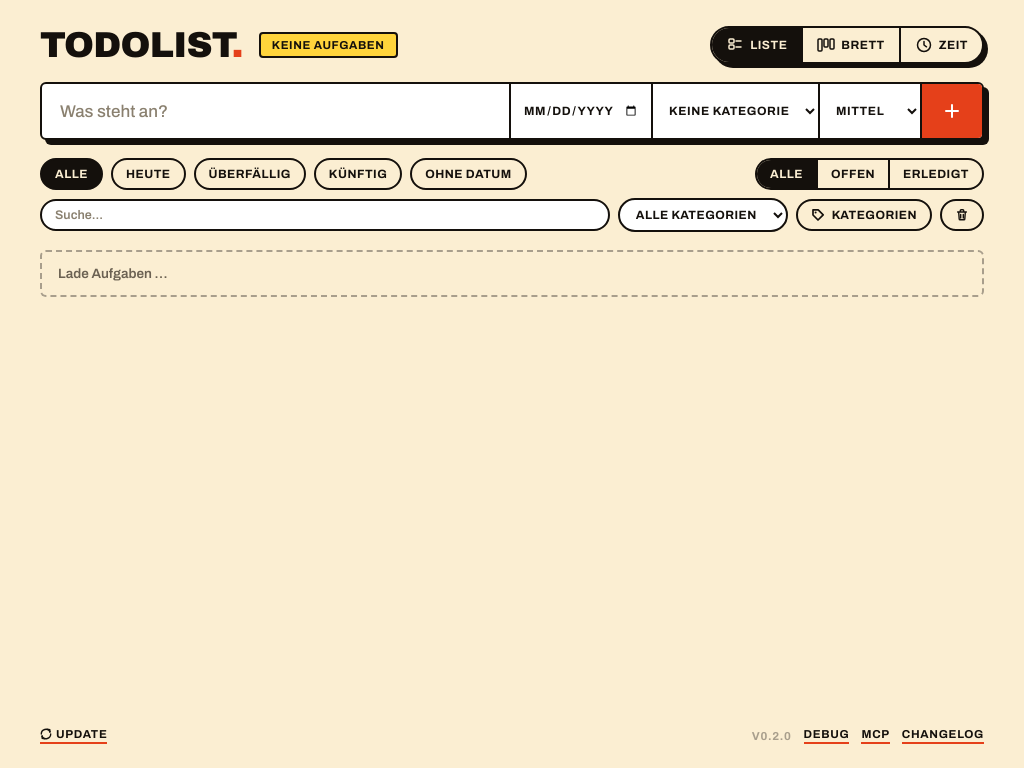
Test case: der Papierkorb-Knopf › öffnet das Papierkorb-Fenster
The image size is (1024, 768).
Step 1. Click the button named "Papierkorb" → (962, 215), box left=940, top=199, right=984, bottom=231
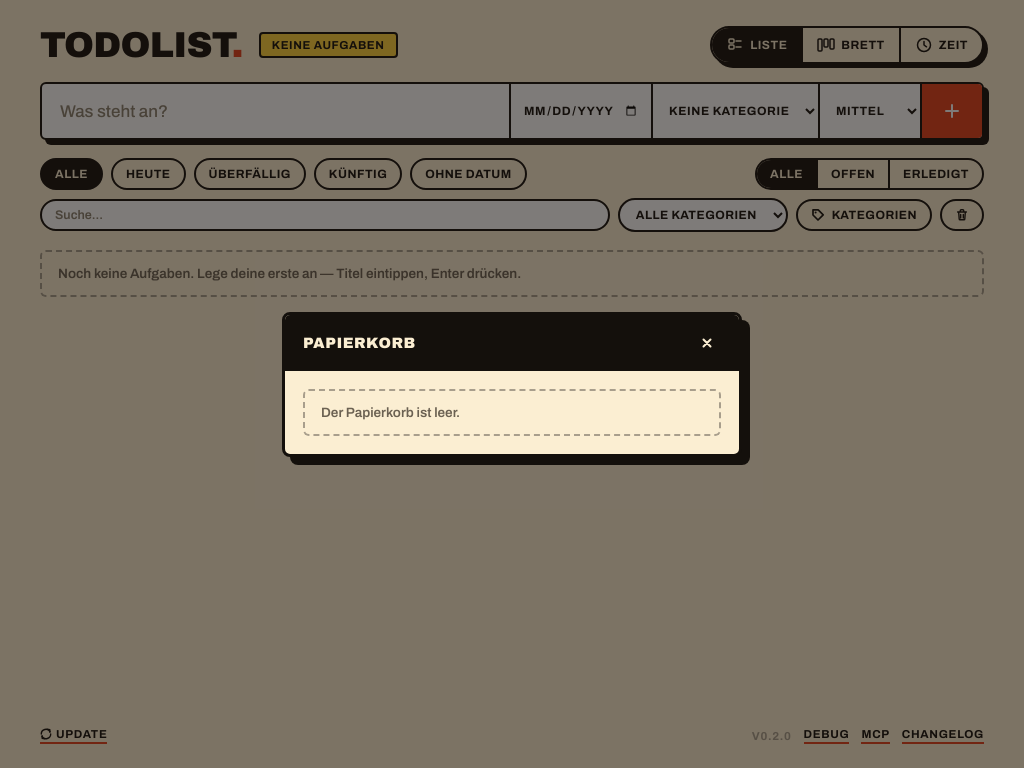
Now the heading "Papierkorb" is shown, box left=303, top=334, right=416, bottom=350
